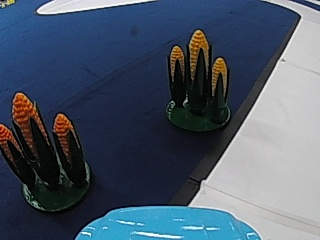corn: (5, 94, 93, 209), (162, 25, 234, 132)
